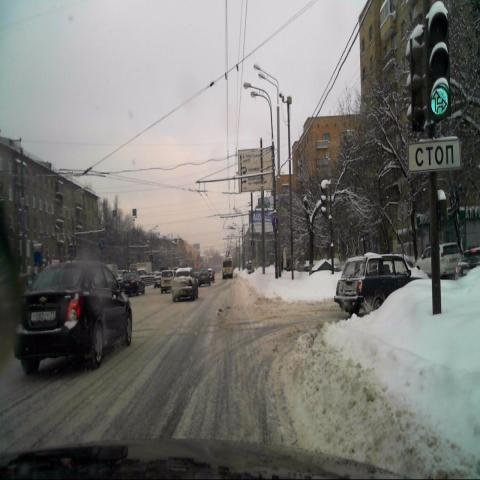6_16: (408, 138, 461, 171)
